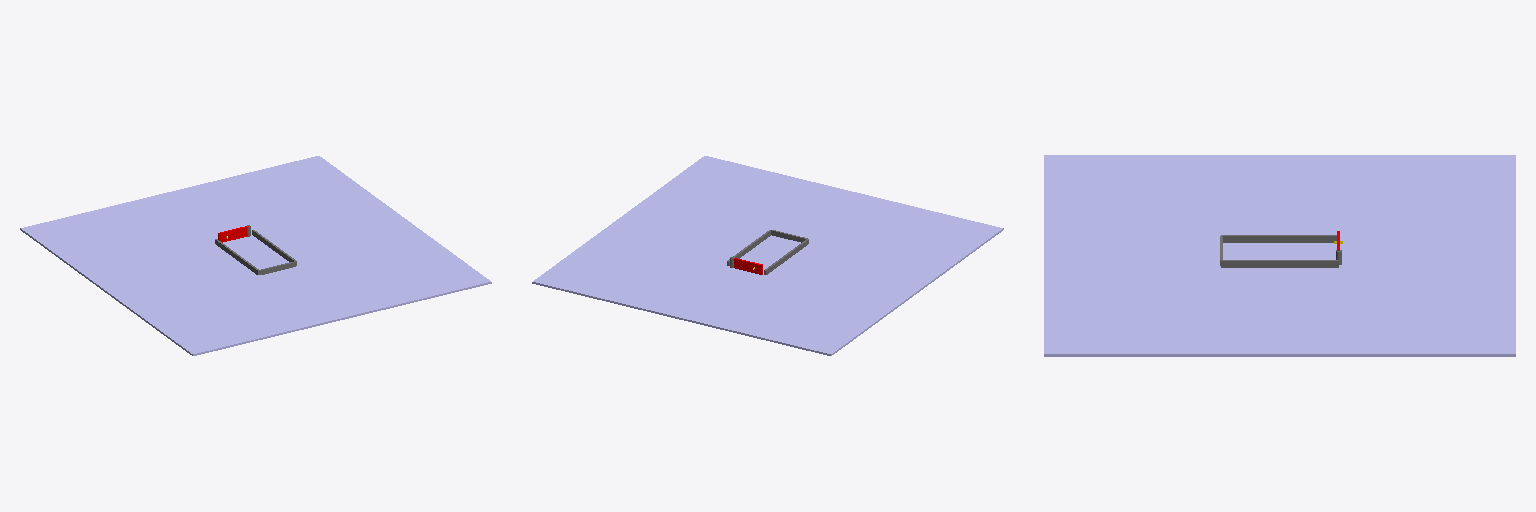
The robot description file, URDF, robot "escape_room":
<?xml version="1.0"?>
<!-- created with Phobos 1.0.1 "Capricious Choutengan" -->
  <robot name="escape_room">

    <link name="base_link">
      <inertial>
        <origin xyz="0 0 0" rpy="0 0 0"/>
        <mass value="0.001"/>
        <inertia ixx="0.001" ixy="0" ixz="0" iyy="0.001" iyz="0" izz="0.001"/>
      </inertial>
      <visual name="visual_box_base">
        <origin xyz="0 0 0" rpy="0 0 0"/>
        <geometry>
          <box size="31.999 31.999 0.199"/>
        </geometry>
        <material name="lavender"/>
      </visual>
      <collision name="collision_box_base">
        <origin xyz="0 0 0" rpy="0 0 0"/>
        <geometry>
          <box size="31.999 31.999 0.199"/>
        </geometry>
      </collision>
    </link>

    <link name="goal">
      <inertial>
        <origin xyz="0 0 0" rpy="0 0 0"/>
        <mass value="0.001"/>
        <inertia ixx="0.001" ixy="0" ixz="0" iyy="0.001" iyz="0" izz="0.001"/>
      </inertial>
    </link>

    <link name="link_0_joint_0">
      <inertial>
        <origin xyz="0 0 0" rpy="0 0 0"/>
        <mass value="0.001"/>
        <inertia ixx="0.001" ixy="0" ixz="0" iyy="0.001" iyz="0" izz="0.001"/>
      </inertial>
      <visual name="visual_mesh_2_link_0">
        <origin xyz="0 0 0" rpy="0 0 0"/>
        <geometry>
          <mesh filename="file://[local-path]/ba/puzzle-generator/puzzles/escape_room/meshes/stl/robot.stl" scale="1.0 1.0 1.0"/>
        </geometry>
        <material name="green"/>
      </visual>
      <collision name="collision_mesh_2_link_0">
        <origin xyz="0 0 0" rpy="0 0 0"/>
        <geometry>
          <mesh filename="file://[local-path]/ba/puzzle-generator/puzzles/escape_room/meshes/stl/robot.001.stl" scale="1.0 1.0 1.0"/>
        </geometry>
      </collision>
    </link>

    <link name="link_0_joint_0.001">
      <inertial>
        <origin xyz="0 0 0" rpy="0 0 0"/>
        <mass value="0.001"/>
        <inertia ixx="0.001" ixy="0" ixz="0" iyy="0.001" iyz="0" izz="0.001"/>
      </inertial>
      <visual name="visual_mesh_2_link_0.001">
        <origin xyz="0 0 0" rpy="0 0 0"/>
        <geometry>
          <mesh filename="file://[local-path]/ba/puzzle-generator/puzzles/escape_room/meshes/stl/robot.002.stl" scale="1.0 1.0 1.0"/>
        </geometry>
        <material name="green_translucent"/>
      </visual>
    </link>

    <link name="link_0_joint_1">
      <inertial>
        <origin xyz="0 0 0" rpy="0 0 0"/>
        <mass value="0.001"/>
        <inertia ixx="0.001" ixy="0" ixz="0" iyy="0.001" iyz="0" izz="0.001"/>
      </inertial>
    </link>

    <link name="link_0_joint_1.001">
      <inertial>
        <origin xyz="0 0 0" rpy="0 0 0"/>
        <mass value="0.001"/>
        <inertia ixx="0.001" ixy="0" ixz="0" iyy="0.001" iyz="0" izz="0.001"/>
      </inertial>
    </link>

    <link name="link_0_joint_2">
      <inertial>
        <origin xyz="0 0 0" rpy="0 0 0"/>
        <mass value="0.001"/>
        <inertia ixx="0.001" ixy="0" ixz="0" iyy="0.001" iyz="0" izz="0.001"/>
      </inertial>
    </link>

    <link name="link_10_fixed_door_handle2">
      <inertial>
        <origin xyz="0 0 0" rpy="0 0 0"/>
        <mass value="0.001"/>
        <inertia ixx="0.001" ixy="0" ixz="0" iyy="0.001" iyz="0" izz="0.001"/>
      </inertial>
      <visual name="visual_box_10_fixed_door_handle2">
        <origin xyz="0 0 0" rpy="0 0 0"/>
        <geometry>
          <box size="0.049 0.199 0.199"/>
        </geometry>
        <material name="yellow"/>
      </visual>
      <collision name="collision_box_10_fixed_door_handle2">
        <origin xyz="0 0 0" rpy="0 0 0"/>
        <geometry>
          <box size="0.049 0.199 0.199"/>
        </geometry>
      </collision>
    </link>

    <link name="link_11_fixed_wall_left">
      <inertial>
        <origin xyz="0 0 0" rpy="0 0 0"/>
        <mass value="0.001"/>
        <inertia ixx="0.001" ixy="0" ixz="0" iyy="0.001" iyz="0" izz="0.001"/>
      </inertial>
      <visual name="visual_box_11_fixed_wall_left">
        <origin xyz="0 0 0" rpy="0 0 0"/>
        <geometry>
          <box size="3.799 0.199 0.499"/>
        </geometry>
        <material name="gray"/>
      </visual>
      <collision name="collision_box_11_fixed_wall_left">
        <origin xyz="0 0 0" rpy="0 0 0"/>
        <geometry>
          <box size="3.799 0.199 0.499"/>
        </geometry>
      </collision>
    </link>

    <link name="link_12_fixed_wall_front">
      <inertial>
        <origin xyz="0 0 0" rpy="0 0 0"/>
        <mass value="0.001"/>
        <inertia ixx="0.001" ixy="0" ixz="0" iyy="0.001" iyz="0" izz="0.001"/>
      </inertial>
      <visual name="visual_box_12_fixed_wall_front">
        <origin xyz="0 0 0" rpy="0 0 0"/>
        <geometry>
          <box size="0.199 7.999 0.499"/>
        </geometry>
        <material name="gray"/>
      </visual>
      <collision name="collision_box_12_fixed_wall_front">
        <origin xyz="0 0 0" rpy="0 0 0"/>
        <geometry>
          <box size="0.199 7.999 0.499"/>
        </geometry>
      </collision>
    </link>

    <link name="link_13_fixed_wall_back">
      <inertial>
        <origin xyz="0 0 0" rpy="0 0 0"/>
        <mass value="0.001"/>
        <inertia ixx="0.001" ixy="0" ixz="0" iyy="0.001" iyz="0" izz="0.001"/>
      </inertial>
      <visual name="visual_box_13_fixed_wall_back">
        <origin xyz="0 0 0" rpy="0 0 0"/>
        <geometry>
          <box size="0.199 7.999 0.499"/>
        </geometry>
        <material name="gray"/>
      </visual>
      <collision name="collision_box_13_fixed_wall_back">
        <origin xyz="0 0 0" rpy="0 0 0"/>
        <geometry>
          <box size="0.199 7.999 0.499"/>
        </geometry>
      </collision>
    </link>

    <link name="link_1_joint_0">
      <inertial>
        <origin xyz="0 0 0" rpy="0 0 0"/>
        <mass value="0.001"/>
        <inertia ixx="0.001" ixy="0" ixz="0" iyy="0.001" iyz="0" izz="0.001"/>
      </inertial>
      <visual name="visual_mesh_5_link_1">
        <origin xyz="0 0 0" rpy="0 0 0"/>
        <geometry>
          <mesh filename="file://[local-path]/ba/puzzle-generator/puzzles/escape_room/meshes/stl/stick.stl" scale="1.0 1.0 1.0"/>
        </geometry>
        <material name="brown"/>
      </visual>
      <collision name="collision_mesh_5_link_1">
        <origin xyz="0 0 0" rpy="0 0 0"/>
        <geometry>
          <mesh filename="file://[local-path]/ba/puzzle-generator/puzzles/escape_room/meshes/stl/stick.001.stl" scale="1.0 1.0 1.0"/>
        </geometry>
      </collision>
    </link>

    <link name="link_1_joint_1">
      <inertial>
        <origin xyz="0 0 0" rpy="0 0 0"/>
        <mass value="0.001"/>
        <inertia ixx="0.001" ixy="0" ixz="0" iyy="0.001" iyz="0" izz="0.001"/>
      </inertial>
    </link>

    <link name="link_1_joint_2">
      <inertial>
        <origin xyz="0 0 0" rpy="0 0 0"/>
        <mass value="0.001"/>
        <inertia ixx="0.001" ixy="0" ixz="0" iyy="0.001" iyz="0" izz="0.001"/>
      </inertial>
    </link>

    <link name="link_2_joint_0">
      <inertial>
        <origin xyz="0 0 0" rpy="0 0 0"/>
        <mass value="0.001"/>
        <inertia ixx="0.001" ixy="0" ixz="0" iyy="0.001" iyz="0" izz="0.001"/>
      </inertial>
      <visual name="visual_cylinder_6_link_2">
        <origin xyz="0 0 0" rpy="0 0 0"/>
        <geometry>
          <cylinder radius="0.1995" length="0.999"/>
        </geometry>
        <material name="gray"/>
      </visual>
      <collision name="collision_cylinder_6_link_2">
        <origin xyz="0 0 0" rpy="0 0 0"/>
        <geometry>
          <cylinder radius="0.1995" length="0.999"/>
        </geometry>
      </collision>
    </link>

    <link name="link_7_fixed_hinge">
      <inertial>
        <origin xyz="0 0 0" rpy="0 0 0"/>
        <mass value="0.001"/>
        <inertia ixx="0.001" ixy="0" ixz="0" iyy="0.001" iyz="0" izz="0.001"/>
      </inertial>
      <visual name="visual_cylinder_7_fixed_hinge">
        <origin xyz="0 0 0" rpy="0 0 0"/>
        <geometry>
          <cylinder radius="0.0495" length="1.099"/>
        </geometry>
        <material name="gray"/>
      </visual>
    </link>

    <link name="link_8_fixed_door_panel">
      <inertial>
        <origin xyz="0 0 0" rpy="0 0 0"/>
        <mass value="0.001"/>
        <inertia ixx="0.001" ixy="0" ixz="0" iyy="0.001" iyz="0" izz="0.001"/>
      </inertial>
      <visual name="visual_box_8_fixed_door_panel">
        <origin xyz="0 0 0" rpy="0 0 0"/>
        <geometry>
          <box size="3.199 0.199 0.999"/>
        </geometry>
        <material name="red"/>
      </visual>
      <collision name="collision_box_8_fixed_door_panel">
        <origin xyz="0 0 0" rpy="0 0 0"/>
        <geometry>
          <box size="3.199 0.199 0.999"/>
        </geometry>
      </collision>
    </link>

    <link name="link_9_fixed_door_handle1">
      <inertial>
        <origin xyz="0 0 0" rpy="0 0 0"/>
        <mass value="0.001"/>
        <inertia ixx="0.001" ixy="0" ixz="0" iyy="0.001" iyz="0" izz="0.001"/>
      </inertial>
      <visual name="visual_box_9_fixed_door_handle1">
        <origin xyz="0 0 0" rpy="0 0 0"/>
        <geometry>
          <box size="0.049 0.199 0.199"/>
        </geometry>
        <material name="yellow"/>
      </visual>
      <collision name="collision_box_9_fixed_door_handle1">
        <origin xyz="0 0 0" rpy="0 0 0"/>
        <geometry>
          <box size="0.049 0.199 0.199"/>
        </geometry>
      </collision>
    </link>

    <joint name="goal" type="fixed">
      <origin xyz="0 5.0 0.6" rpy="0 0 1.5708"/>
      <parent link="base_link"/>
      <child link="goal"/>
      <limit effort="0" velocity="0"/>
    </joint>

    <joint name="link_0_joint_0" type="revolute">
      <origin xyz="0 0 0" rpy="0 0 0"/>
      <parent link="link_0_joint_1"/>
      <child link="link_0_joint_0"/>
      <axis xyz="0 0 1.0"/>
      <limit lower="-3.14159" upper="3.14159" effort="0" velocity="0"/>
    </joint>

    <joint name="link_0_joint_0.001" type="fixed">
      <origin xyz="0 0 0" rpy="0 0 0"/>
      <parent link="link_0_joint_1.001"/>
      <child link="link_0_joint_0.001"/>
      <limit effort="0" velocity="0"/>
    </joint>

    <joint name="link_0_joint_1" type="prismatic">
      <origin xyz="0 0 0" rpy="0 0 0"/>
      <parent link="link_0_joint_2"/>
      <child link="link_0_joint_1"/>
      <axis xyz="0 1.0 0"/>
      <limit lower="-6.0" upper="6.0" effort="0" velocity="0"/>
    </joint>

    <joint name="link_0_joint_1.001" type="fixed">
      <origin xyz="0 0 0" rpy="0 0 0"/>
      <parent link="goal"/>
      <child link="link_0_joint_1.001"/>
      <limit effort="0" velocity="0"/>
    </joint>

    <joint name="link_0_joint_2" type="prismatic">
      <origin xyz="0 0 0.6" rpy="0 0 0"/>
      <parent link="base_link"/>
      <child link="link_0_joint_2"/>
      <axis xyz="1.0 0 0"/>
      <limit lower="-6.0" upper="6.0" effort="0" velocity="0"/>
    </joint>

    <joint name="link_10_fixed_door_handle2" type="fixed">
      <origin xyz="2.4 -0.2 0" rpy="0 0 0"/>
      <parent link="link_2_joint_0"/>
      <child link="link_10_fixed_door_handle2"/>
    </joint>

    <joint name="link_11_fixed_wall_left" type="fixed">
      <origin xyz="0 -4.0 0.35" rpy="0 0 0"/>
      <parent link="base_link"/>
      <child link="link_11_fixed_wall_left"/>
    </joint>

    <joint name="link_12_fixed_wall_front" type="fixed">
      <origin xyz="2.0 0 0.35" rpy="0 0 0"/>
      <parent link="base_link"/>
      <child link="link_12_fixed_wall_front"/>
    </joint>

    <joint name="link_13_fixed_wall_back" type="fixed">
      <origin xyz="-2.0 0 0.35" rpy="0 0 0"/>
      <parent link="base_link"/>
      <child link="link_13_fixed_wall_back"/>
    </joint>

    <joint name="link_1_joint_0" type="revolute">
      <origin xyz="0 0 0" rpy="0 0 0"/>
      <parent link="link_1_joint_1"/>
      <child link="link_1_joint_0"/>
      <axis xyz="0 0 1.0"/>
      <limit lower="-3.14159" upper="3.14159" effort="0" velocity="0"/>
    </joint>

    <joint name="link_1_joint_1" type="prismatic">
      <origin xyz="0 0 0" rpy="0 0 0"/>
      <parent link="link_1_joint_2"/>
      <child link="link_1_joint_1"/>
      <axis xyz="0 1.0 0"/>
      <limit lower="-6.0" upper="6.0" effort="0" velocity="0"/>
    </joint>

    <joint name="link_1_joint_2" type="prismatic">
      <origin xyz="-0.75 2.68884 0.35" rpy="0 0 0"/>
      <parent link="base_link"/>
      <child link="link_1_joint_2"/>
      <axis xyz="1.0 0 0"/>
      <limit lower="-6.0" upper="6.0" effort="0" velocity="0"/>
    </joint>

    <joint name="link_2_joint_0" type="revolute">
      <origin xyz="1.5 4.0 0.6" rpy="0 0 3.14159"/>
      <parent link="base_link"/>
      <child link="link_2_joint_0"/>
      <axis xyz="0 0 1.0"/>
      <limit lower="0" upper="1.5708" effort="0" velocity="0"/>
    </joint>

    <joint name="link_7_fixed_hinge" type="fixed">
      <origin xyz="0 0 0" rpy="0 0 0"/>
      <parent link="link_2_joint_0"/>
      <child link="link_7_fixed_hinge"/>
    </joint>

    <joint name="link_8_fixed_door_panel" type="fixed">
      <origin xyz="1.6 0 0" rpy="0 0 0"/>
      <parent link="link_2_joint_0"/>
      <child link="link_8_fixed_door_panel"/>
    </joint>

    <joint name="link_9_fixed_door_handle1" type="fixed">
      <origin xyz="2.4 0.2 0" rpy="0 0 0"/>
      <parent link="link_2_joint_0"/>
      <child link="link_9_fixed_door_handle1"/>
    </joint>

    <material name="brown">
      <color rgba="0.38 0.2 0.07 1.0"/>
    </material>

    <material name="gray">
      <color rgba="0.5 0.5 0.5 1.0"/>
    </material>

    <material name="green">
      <color rgba="0 1.0 0 1.0"/>
    </material>

    <material name="green_translucent">
      <color rgba="0 1.0 0 0.25"/>
    </material>

    <material name="lavender">
      <color rgba="0.8 0.8 1.0 1.0"/>
    </material>

    <material name="red">
      <color rgba="1.0 0 0 1.0"/>
    </material>

    <material name="yellow">
      <color rgba="1.0 1.0 0 1.0"/>
    </material>

  </robot>

--- What the picture shows (computed from the rendered views, not written in the file) ---
3 views of the same robot in one strip: view 1: azimuth 30°, elevation 25°; view 2: azimuth 150°, elevation 25°; view 3: azimuth 270°, elevation 25° (orthographic).
Robot: escape_room — 18 links, 17 joints (3 revolute, 4 prismatic, 10 fixed); root link base_link; default pose: all joints at 0.
Visible links, largest first — view 1: base_link; view 2: base_link; view 3: base_link, link_12_fixed_wall_front, link_13_fixed_wall_back.
Boxes of the visible links, <box> form: base_link: <box>20,156,491,355</box>; base_link: <box>532,156,1003,355</box>; base_link: <box>1044,155,1515,356</box>; link_12_fixed_wall_front: <box>1221,260,1338,267</box>; link_13_fixed_wall_back: <box>1221,235,1336,242</box>.
Bounding box of the posed robot: 32 × 32 × 1.25 m (x, y, z).
Geometry: only primitive shapes (box / cylinder / sphere) drawn; not drawn: 3 mesh visuals (reference in a form the renderer does not follow).